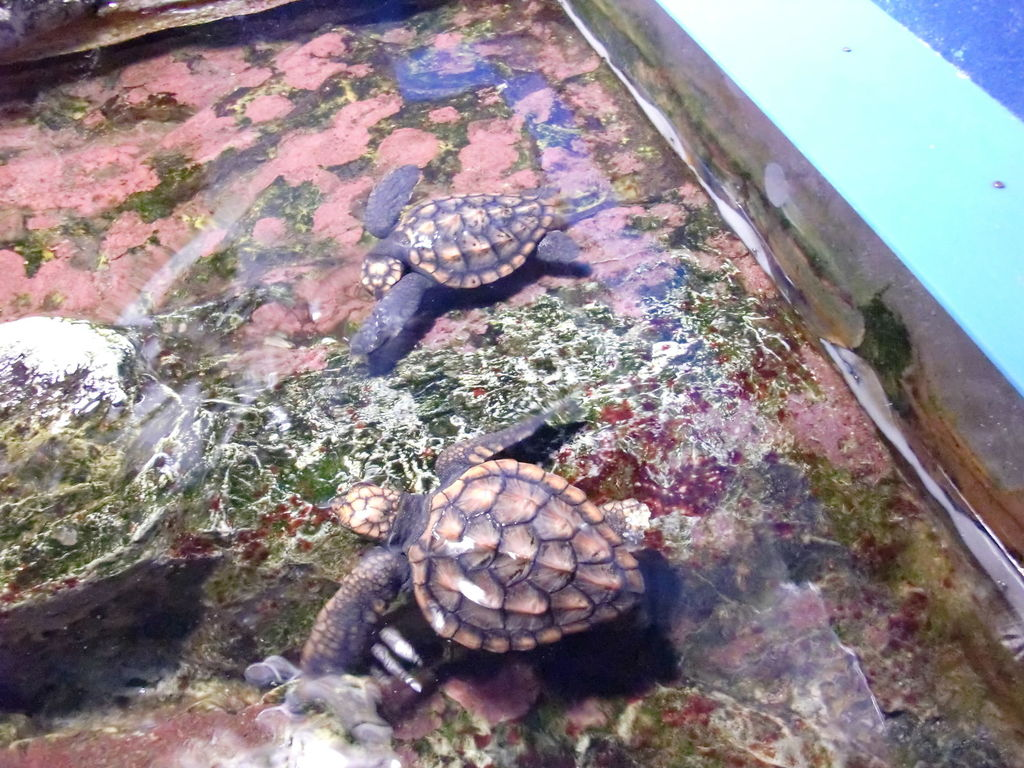Sea turtles: (301, 396, 652, 680), (341, 154, 579, 373)
